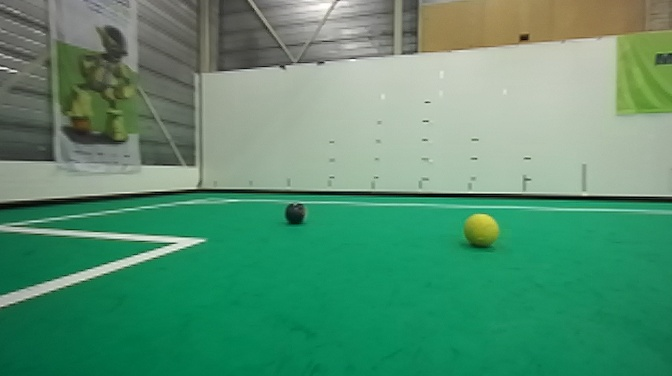ball: (461, 210, 502, 254), (281, 200, 309, 228)
